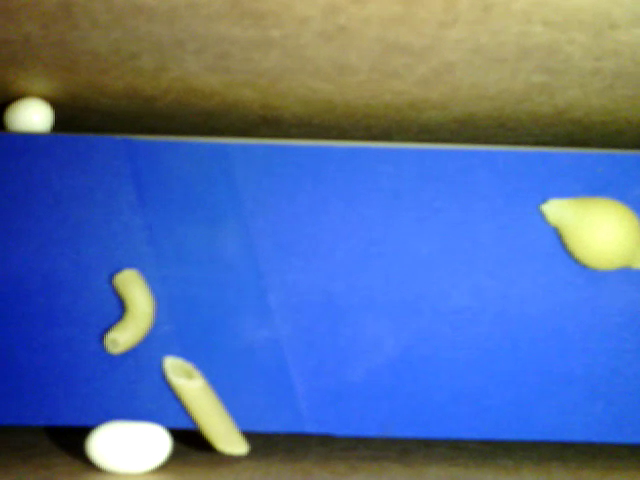elbow: (105, 268, 155, 354)
penne: (163, 355, 249, 455)
shell: (539, 196, 639, 270)
